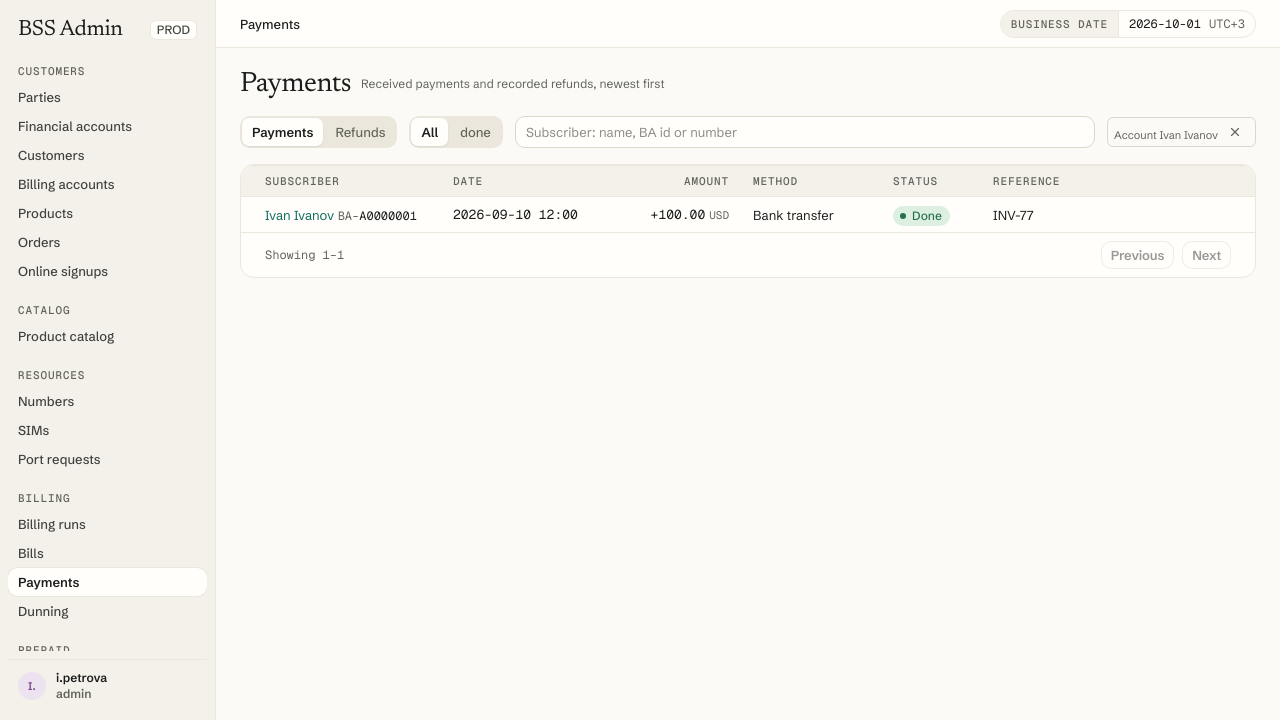
payments screen › resets the status and the account chip that hide every payment
Expected: the link "Ivan Ivanov" is shown, left=265, top=207, right=334, bottom=223
Click the button "done" at x=476, y=132, box left=450, top=118, right=501, bottom=146
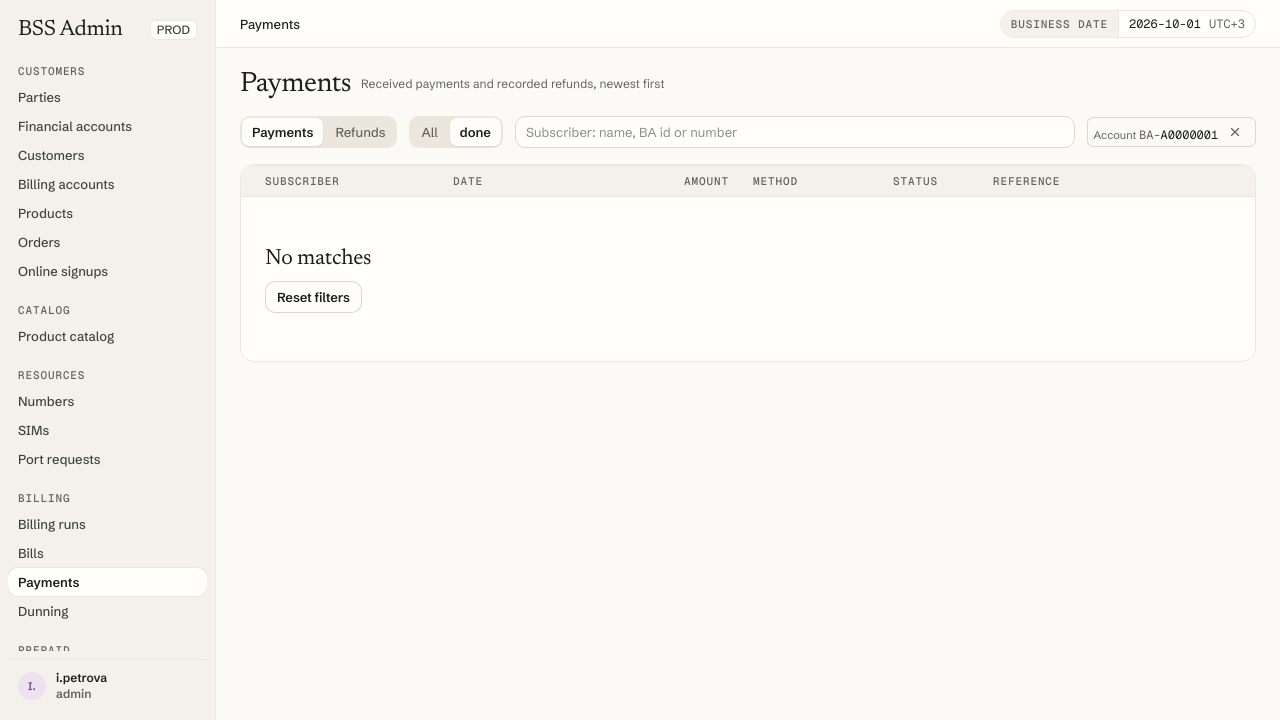
Result: the text "No matches" is shown at left=265, top=245, right=371, bottom=273
Click the button "Reset filters" at x=313, y=297, box left=265, top=281, right=362, bottom=313
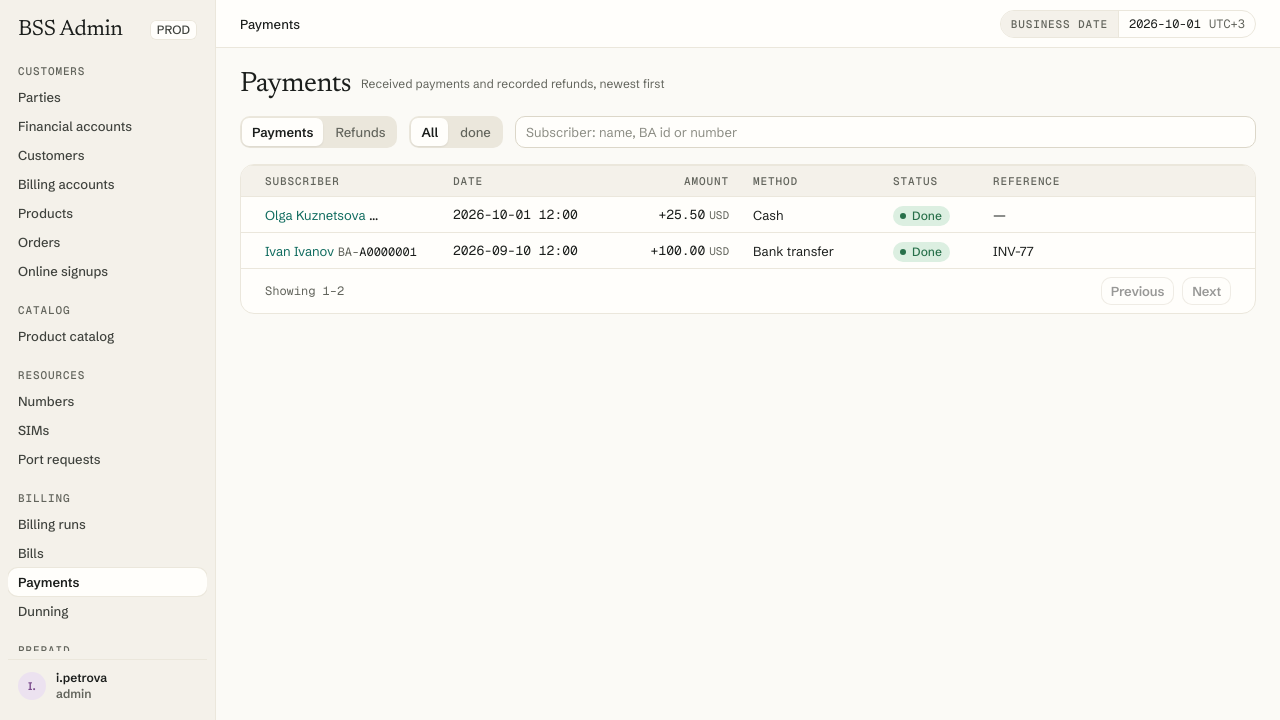
Result: the link "Olga Kuznetsova" is shown at left=265, top=207, right=366, bottom=223
